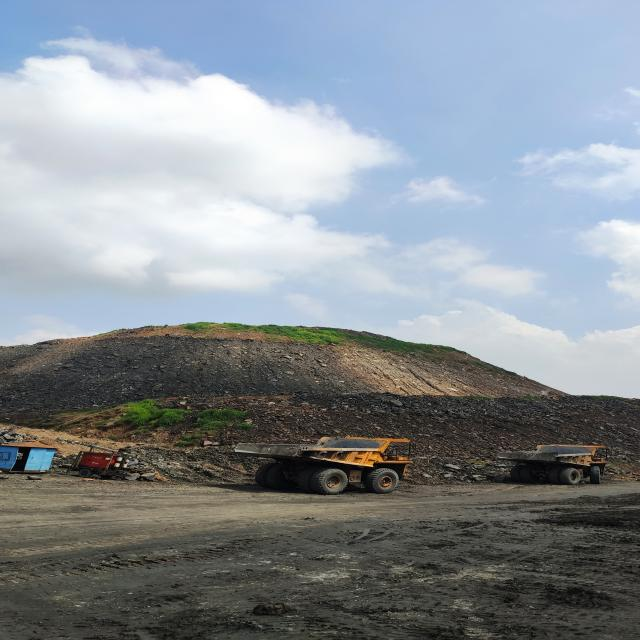dump_truck: (233, 436, 411, 494), (498, 444, 609, 485)
